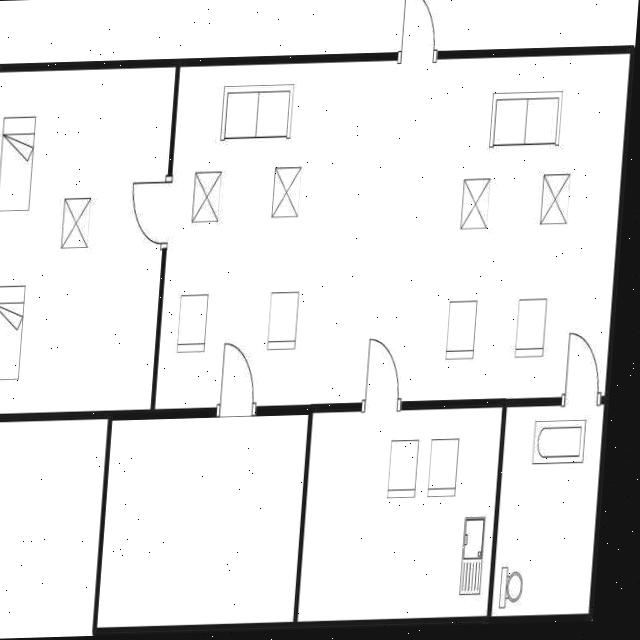room: (145, 53, 640, 408), (0, 67, 175, 413), (98, 400, 308, 640), (298, 394, 502, 634), (492, 397, 604, 621)
